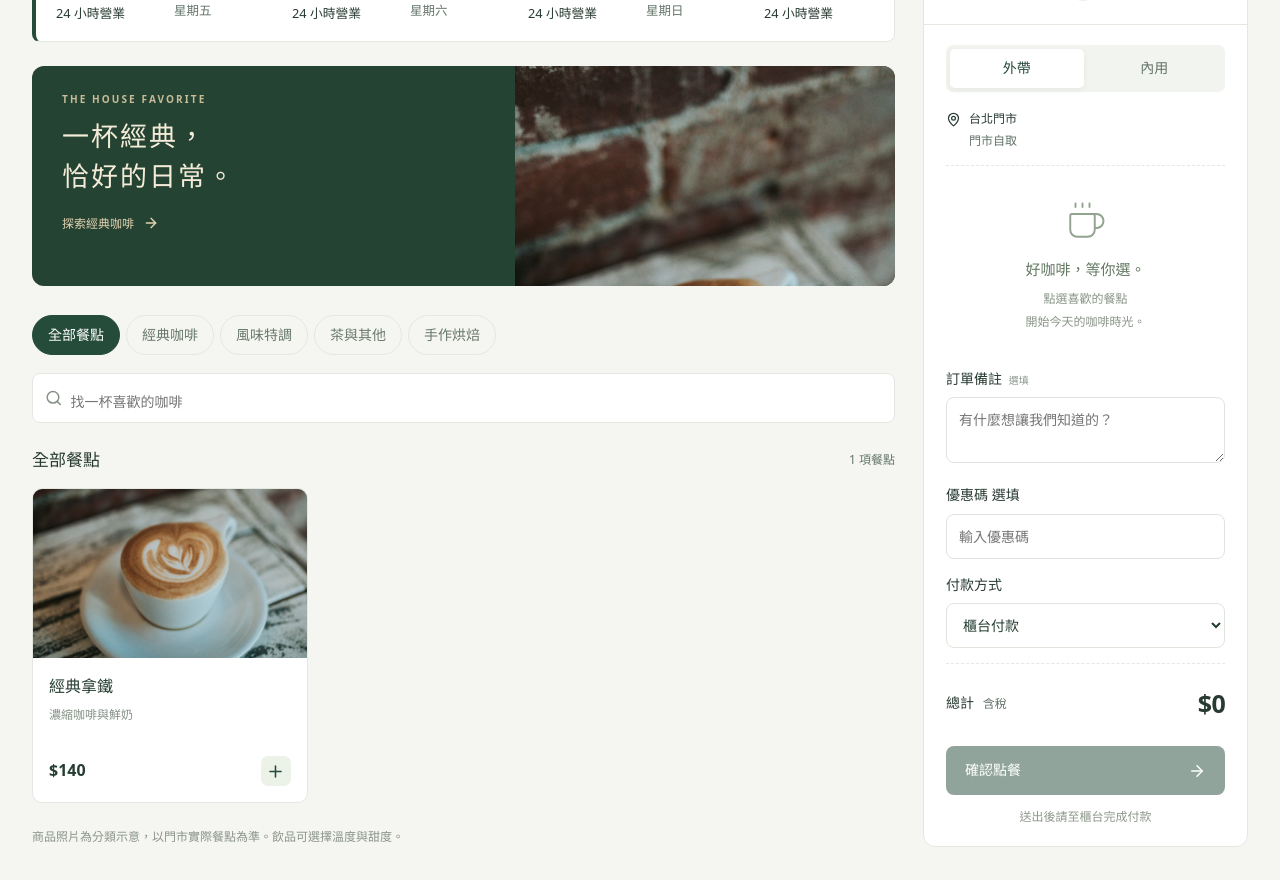
MenuView 可見性 › 零折抵時不顯示試算明細且總計維持毛額
(page scrolled)
What coordinates should you click on to do the following:
click the button "經典拿鐵 濃縮咖啡與鮮奶 $140"
I would click on:
 (170, 646)
Its box is [32,488,308,803].
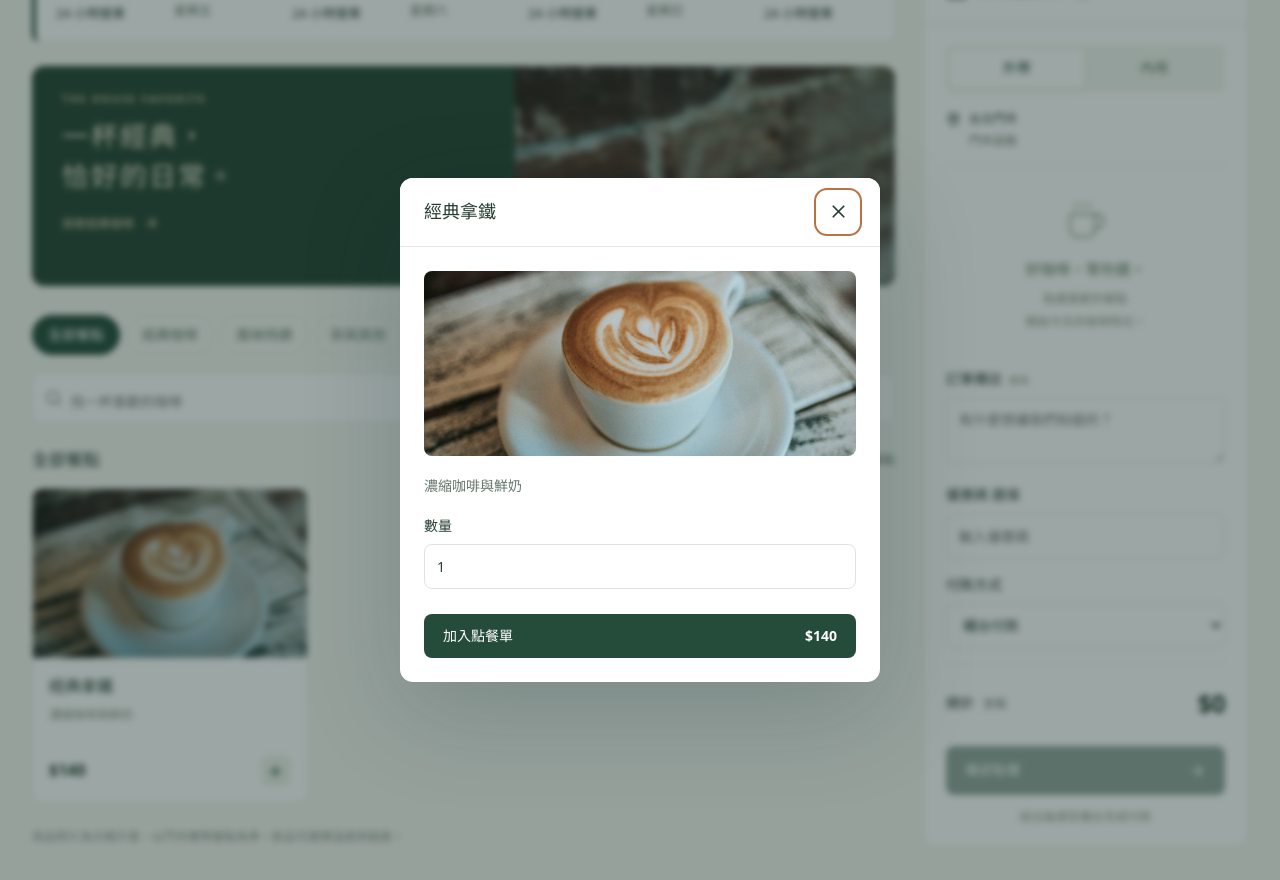
Expected: the button "加入點餐單 $140" is shown
What coordinates should you click on to do the following:
click the button "加入點餐單 $140"
I would click on:
 (478, 636)
Its box is [424,614,856,658].
Wait 300 ms
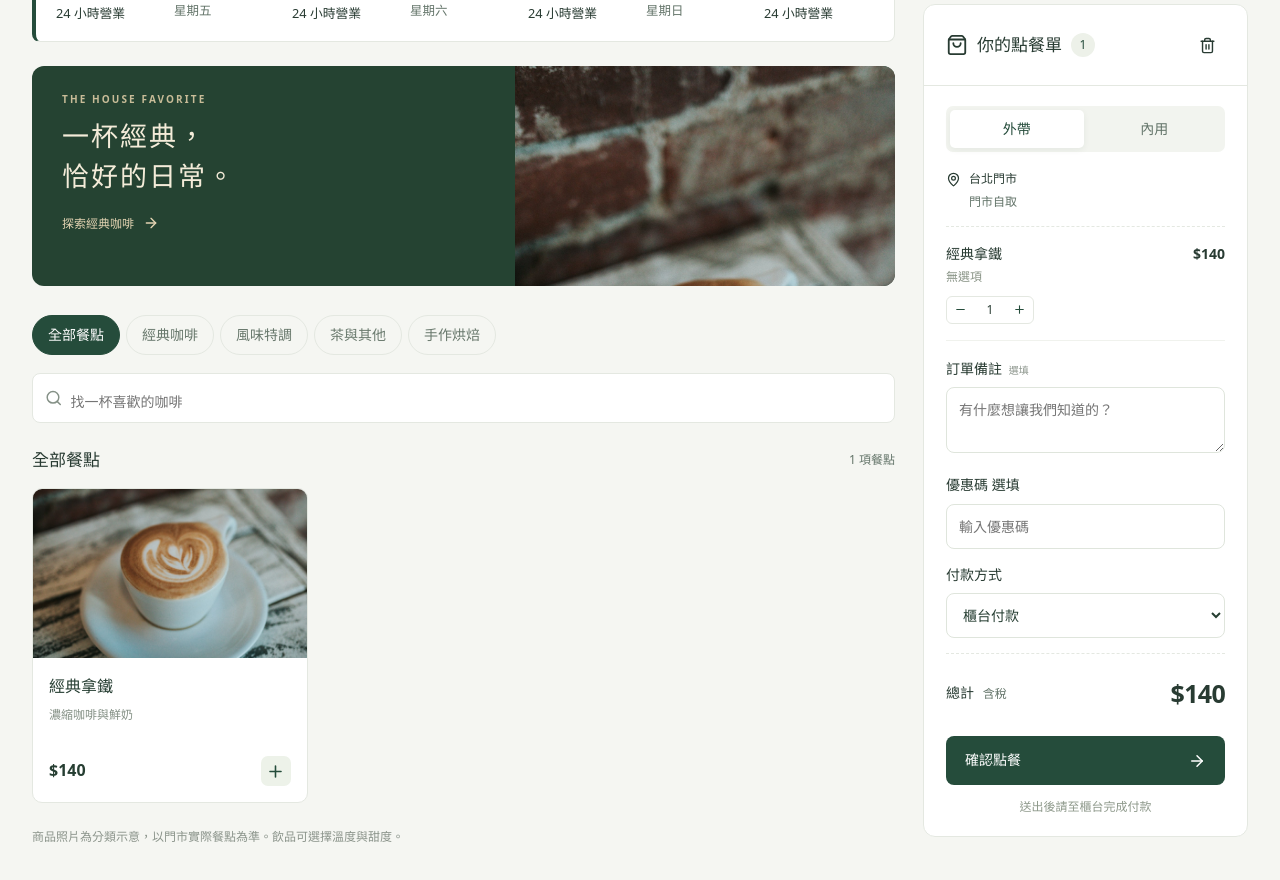
Expected: the element showing "總計 含稅 $140" is shown, [946,653,1225,725]
